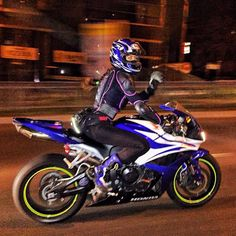helmet: (108, 37, 149, 73)
